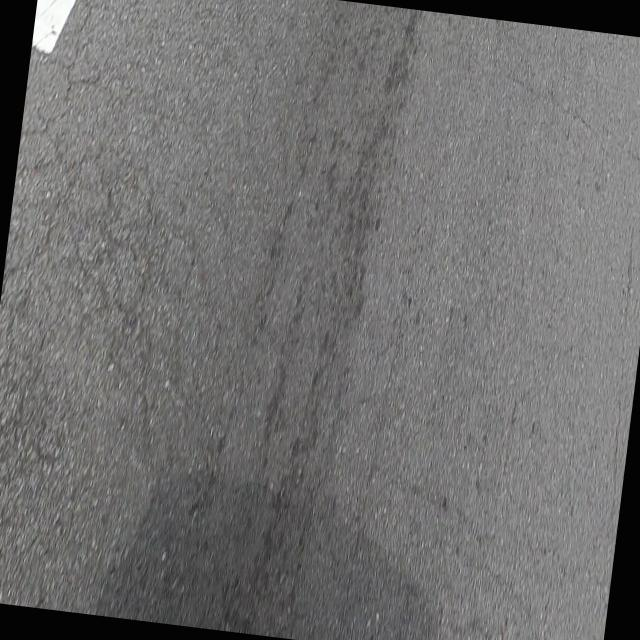Retak-Buaya: (30, 7, 204, 421), (0, 175, 71, 603)
